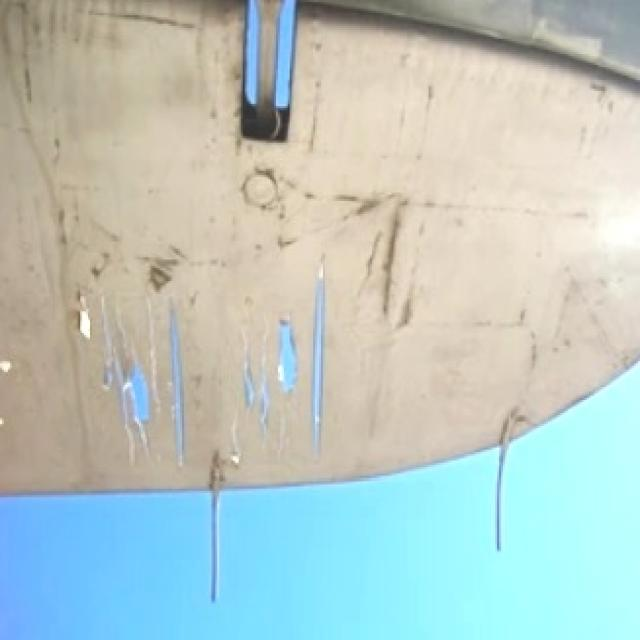crack: (89, 252, 330, 471)
